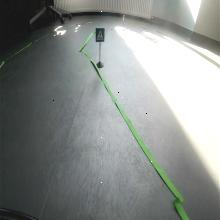crosswalk: (95, 28, 105, 42)
